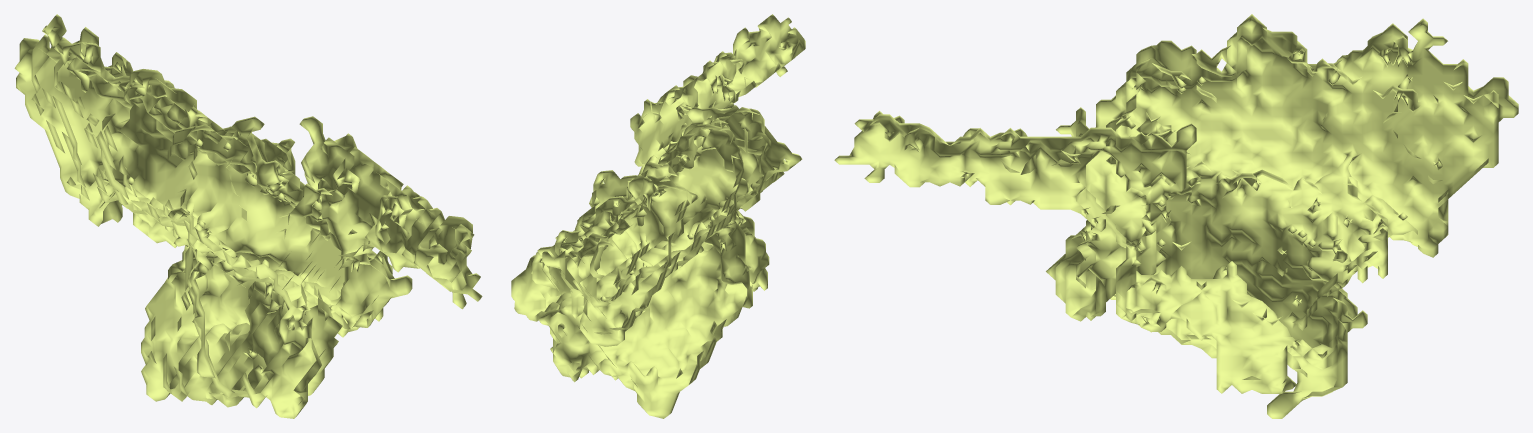
The model's file is osteocyte_95.glb.
The picture shows the model from 3 angles, left to right: view 1: azimuth 30°, elevation 25°; view 2: azimuth 150°, elevation 25°; view 3: azimuth 270°, elevation 25°; orthographic projection. The views are drawn at different scales.
Parts seen in each view (by area): view 1: osteocyte_95; view 2: osteocyte_95; view 3: osteocyte_95.
Boxes of the visible parts, x1,y1,x2,y2 form: osteocyte_95: (14,14,482,418); osteocyte_95: (511,14,805,418); osteocyte_95: (834,14,1518,418).
Size of the model in its own units: 14.93 by 17.81 by 32.74.
